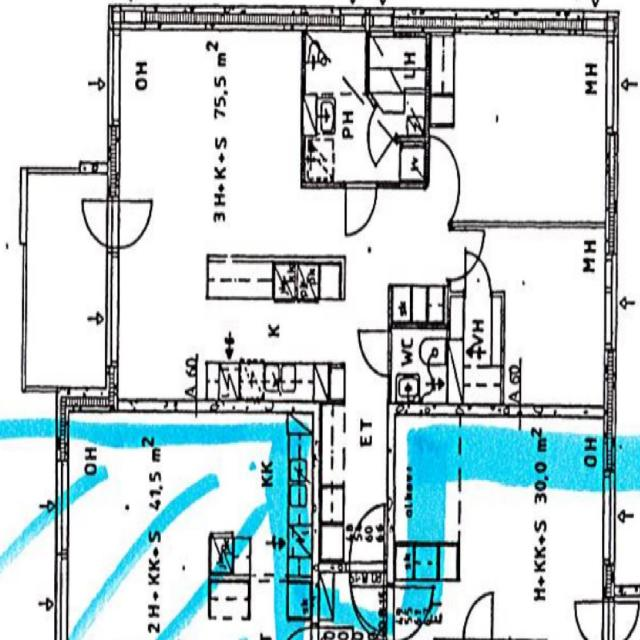door: (427, 156, 470, 223), (356, 104, 396, 166), (349, 510, 384, 573), (349, 563, 384, 626), (108, 200, 150, 248), (77, 200, 119, 248), (446, 230, 482, 279), (346, 182, 376, 234), (359, 331, 391, 377), (466, 253, 490, 296)
